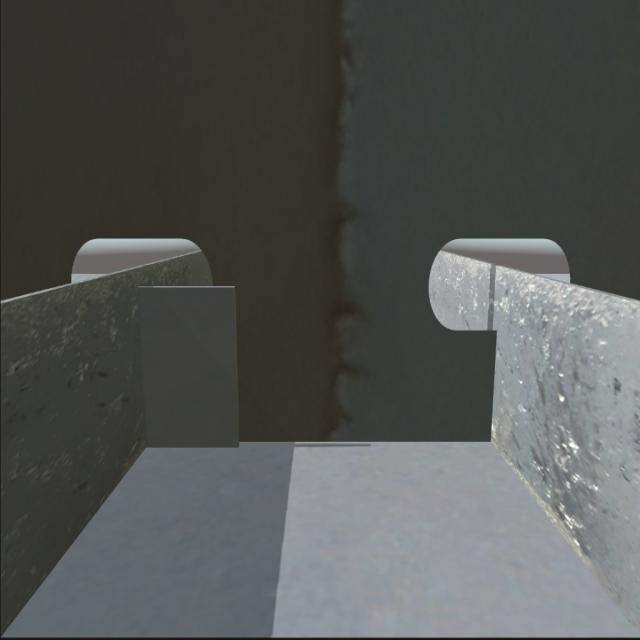fillet_yong_jeop_jang: (140, 433, 500, 453)
longi_yong_jeop_jang: (132, 281, 154, 451), (481, 313, 503, 452)
plate_CP01: (142, 288, 242, 449)
